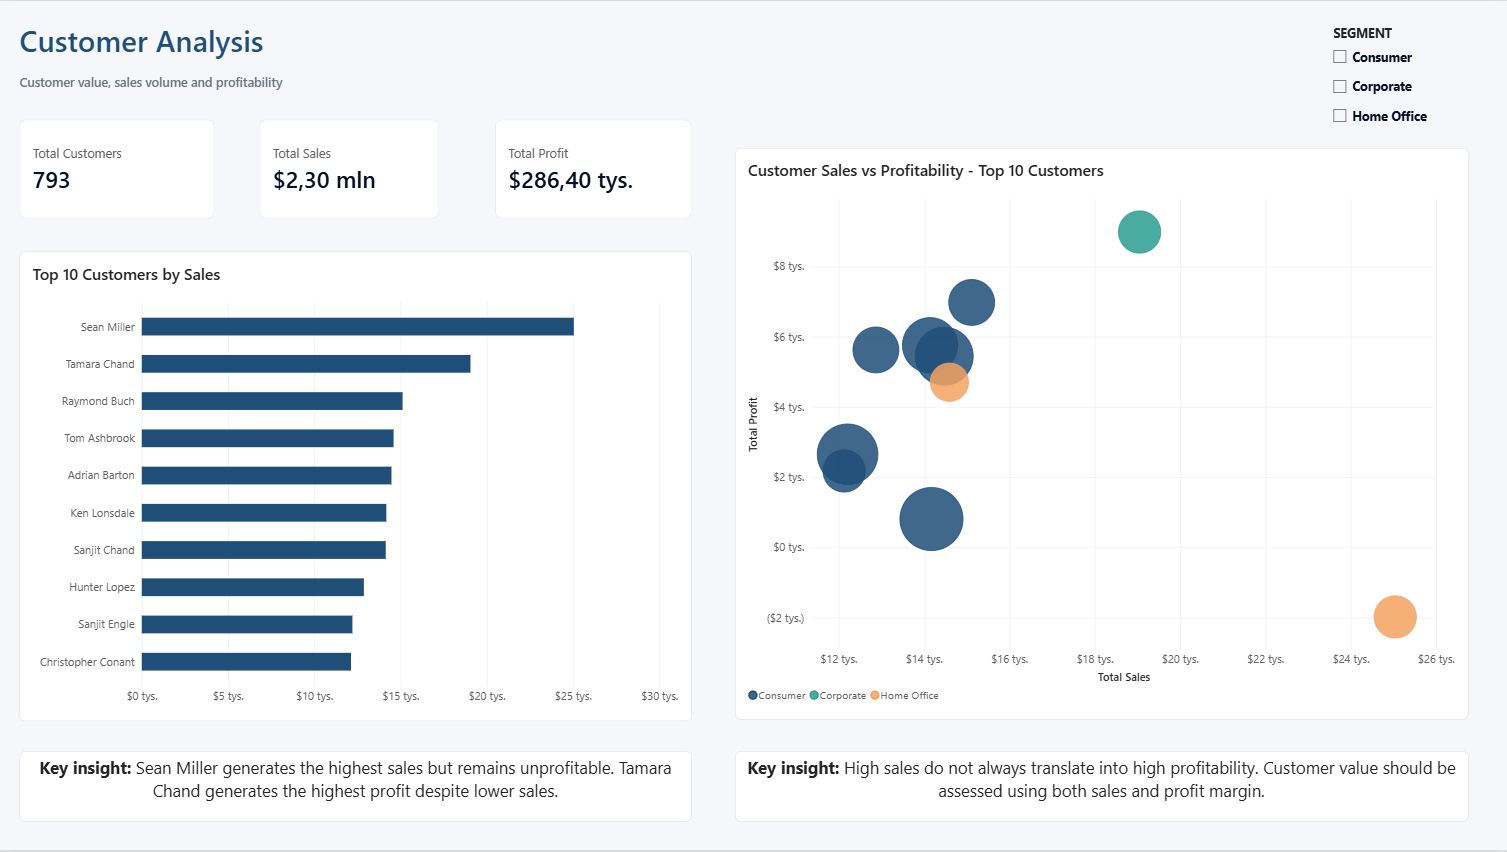

What the dashboard file says about the page in this screenshot:
{"tool":"powerbi","page":{"name":"Customer Analysis","canvas":[1920,1080],"ordinal":3},"visuals":[{"type":"cardVisual","fields":{"Data":["_Measures.Total customers"]},"box":[24,150,248,126],"z":0},{"type":"cardVisual","fields":{"Data":["_Measures.Total Sales"]},"box":[330,150,228,126],"z":1000},{"type":"cardVisual","fields":{"Data":["_Measures.Total Profit"]},"box":[630,150,250,126],"z":2000},{"type":"slicer","fields":{"Values":["orders.segment"]},"box":[1682,24,220,164],"z":3000},{"type":"clusteredBarChart","title":"Top 10 Customers by Sales","fields":{"Category":["orders.customer_name"],"Y":["_Measures.Total Sales"]},"box":[24,318,856,598],"z":4000},{"type":"scatterChart","title":"Customer Sales vs Profitability - Top 10 Customers","fields":{"Category":["orders.customer_name"],"Series":["orders.segment"],"Size":["_Measures.Total Orders"],"X":["_Measures.Total Sales"],"Y":["_Measures.Total Profit"]},"box":[936,188,934,728],"z":5000},{"type":"textbox","box":[24,24,366,110],"z":6000},{"type":"textbox","box":[24,954,856,90],"z":7000},{"type":"textbox","box":[390,0,936,150],"z":8000},{"type":"textbox","box":[936,954,934,90],"z":9000}]}

Visuals, with their boxes in screenshot pixels (x1, y1, x2, y2), scaled from the page's 1920x1080 canvas onto the 1507x852 screenshot:
cardVisual - _Measures.Total customers: [19, 118, 213, 218]
cardVisual - _Measures.Total Sales: [259, 118, 438, 218]
cardVisual - _Measures.Total Profit: [494, 118, 691, 218]
slicer - orders.segment: [1320, 19, 1493, 148]
"Top 10 Customers by Sales" clusteredBarChart: [19, 251, 691, 723]
"Customer Sales vs Profitability - Top 10 Customers" scatterChart: [735, 148, 1468, 723]
textbox: [19, 19, 306, 106]
textbox: [19, 753, 691, 824]
textbox: [306, 0, 1041, 118]
textbox: [735, 753, 1468, 824]
